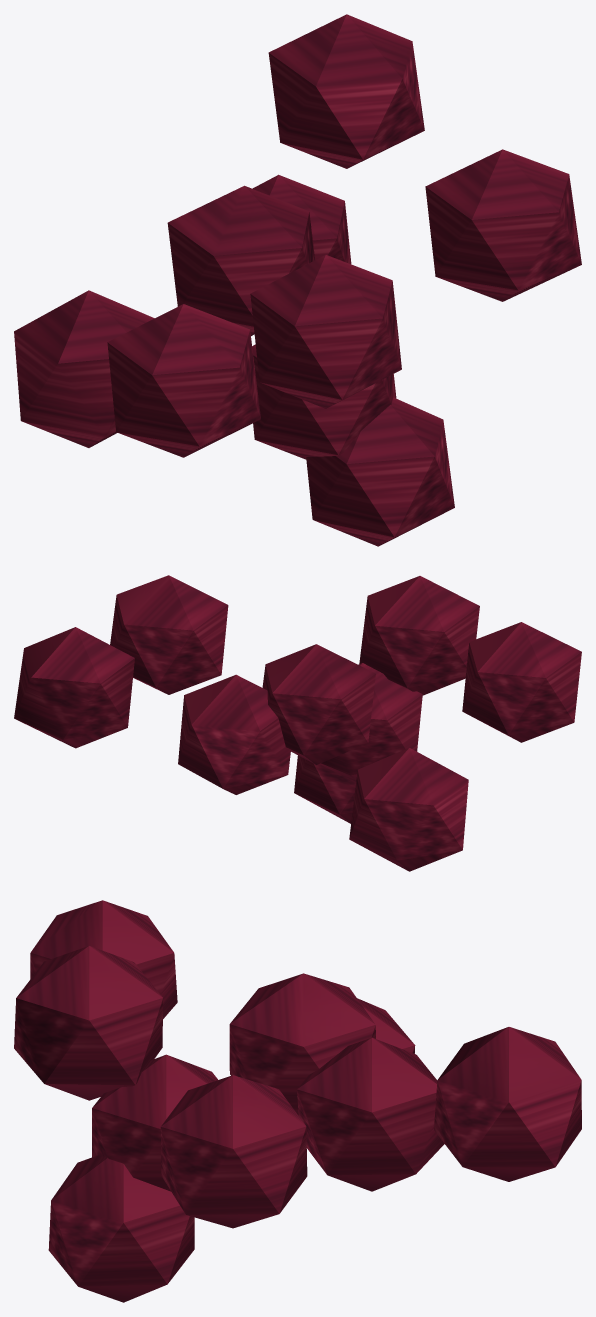
The model's file is ITEM_Berries.fbx.
3 renders of one model, top to bottom at view 1: azimuth 30°, elevation 25°; view 2: azimuth 150°, elevation 25°; view 3: azimuth 270°, elevation 25°, orthographic. The views are drawn at different scales.
Parts seen in each view (by area): view 1: ITEM_Berries; view 2: ITEM_Berries; view 3: ITEM_Berries.
Boxes of the visible parts, x1=… form: ITEM_Berries: x1=14, y1=14, x2=581, y2=546; ITEM_Berries: x1=14, y1=575, x2=581, y2=871; ITEM_Berries: x1=14, y1=900, x2=581, y2=1302.
Size of the model in its own units: 0.0766 by 0.0499 by 0.0724.
